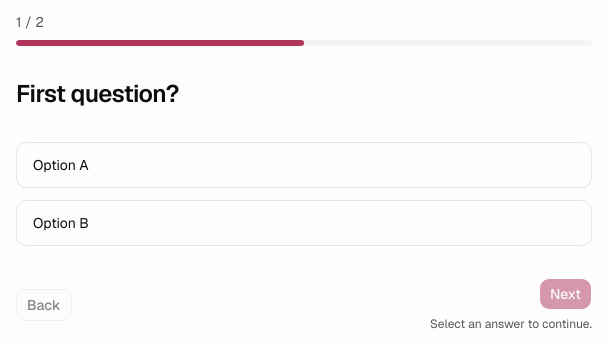
Test case: QuizFlow › advances the progress indicator on next and keeps the prior answer selected on back
Check: the text "1 / 2" is shown, box top-left (16, 13), bottom-right (44, 31)
Click the radio button labelled "Option A".
click(61, 165)  # box top-left (16, 142), bottom-right (592, 188)
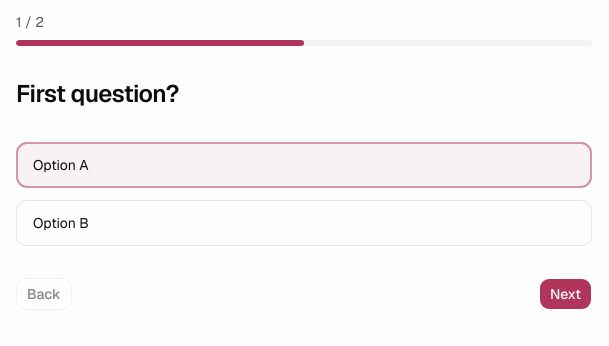
Click the button "Next".
click(565, 294)  # box top-left (539, 278), bottom-right (592, 310)
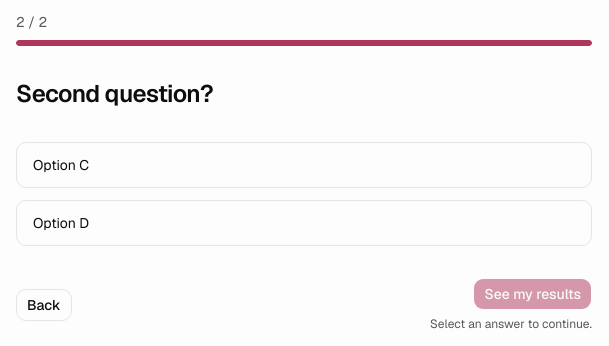
Check: the text "2 / 2" is shown, box top-left (16, 13), bottom-right (47, 31)
Check: the heading "Second question?" is shown, box top-left (16, 78), bottom-right (213, 109)
Click the button "Back".
click(44, 305)  # box top-left (16, 289), bottom-right (72, 321)
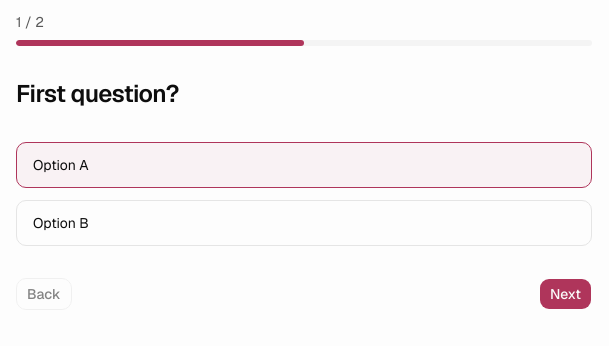
Check: the text "1 / 2" is shown, box top-left (16, 13), bottom-right (44, 31)
